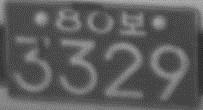0: (87, 7, 114, 35)
2: (103, 40, 143, 101)
3: (57, 38, 98, 96), (13, 34, 52, 93)
8: (56, 6, 82, 33)
9: (149, 42, 190, 102)
보: (118, 10, 147, 37)
